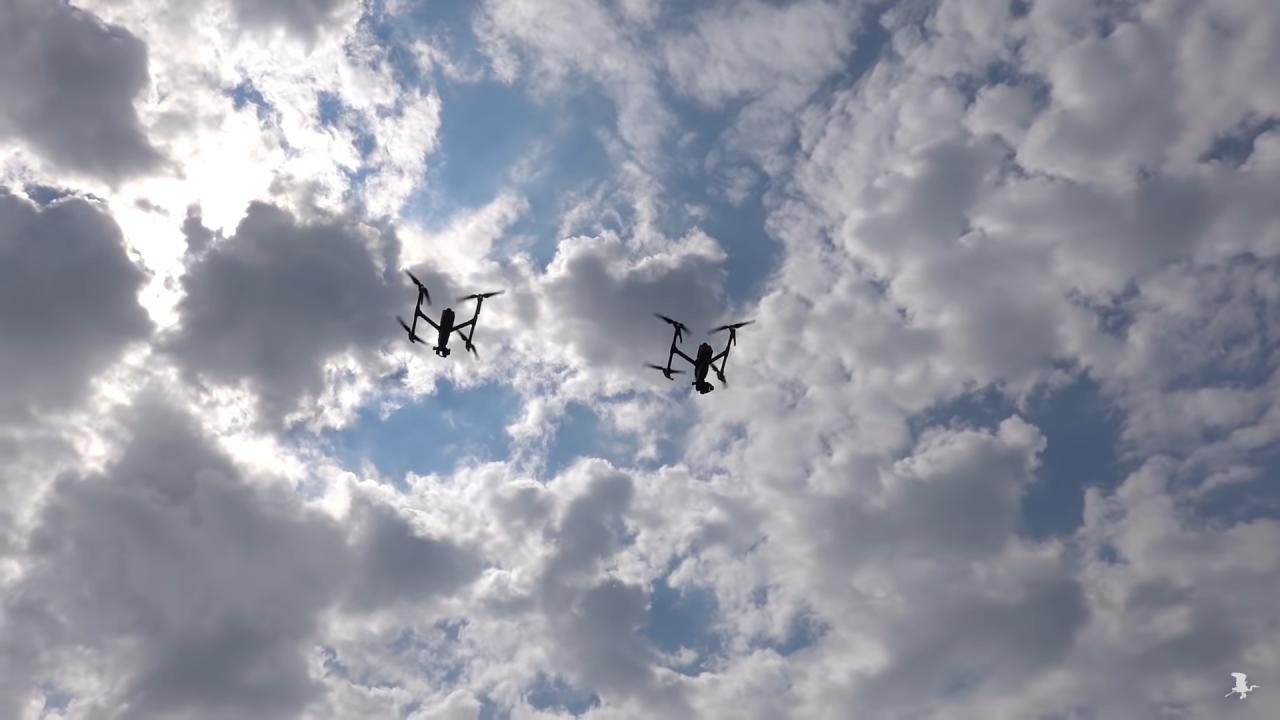Drone: (390, 261, 510, 360), (638, 304, 762, 399)
